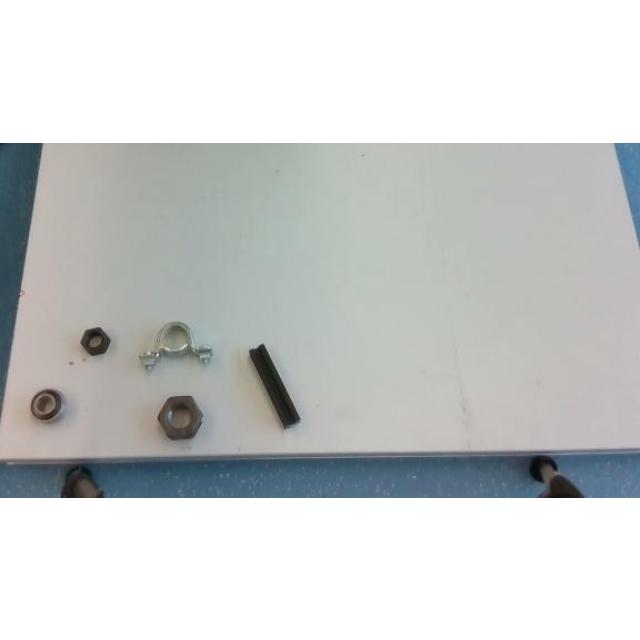Bearing2: (30, 388, 62, 420)
F20_20_B: (248, 344, 300, 426)
Housing: (139, 320, 211, 370)
M20: (80, 326, 110, 354)
M30: (157, 396, 200, 438)
